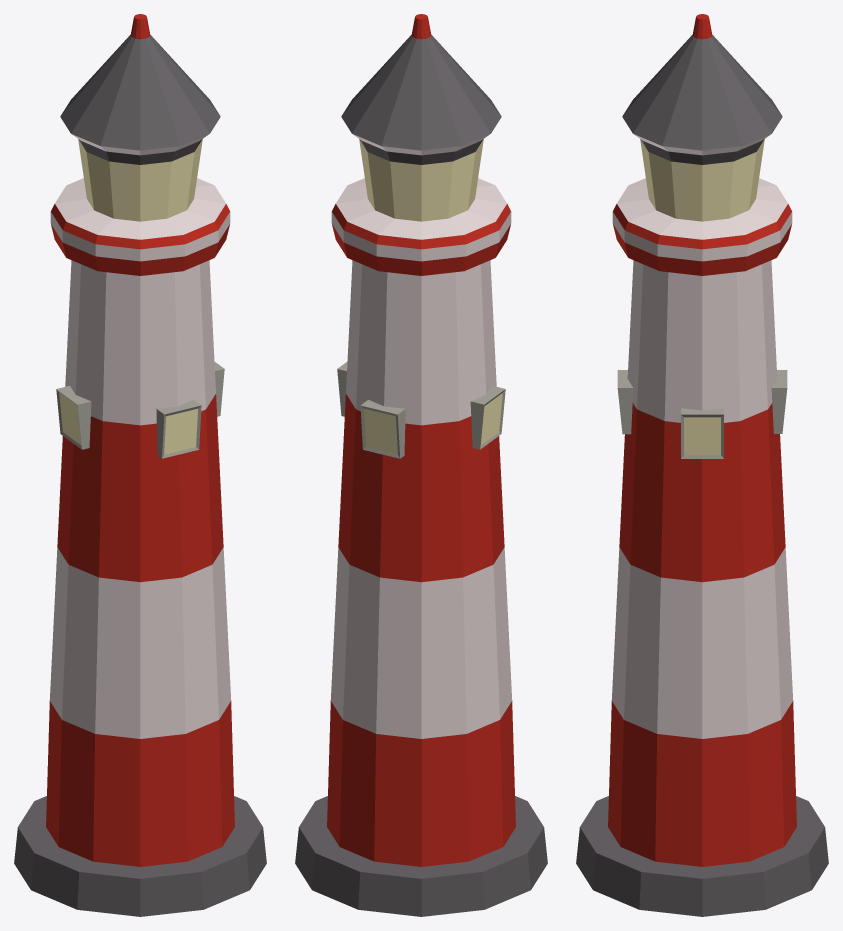
The model's file is Lighttower.fbx.
3 renders of one model, left to right at view 1: azimuth 30°, elevation 25°; view 2: azimuth 150°, elevation 25°; view 3: azimuth 270°, elevation 25°, orthographic.
Visible parts, largest first — view 1: LightTower; view 2: LightTower; view 3: LightTower.
Part boxes in pixels (bbox=[...]): LightTower: bbox=[14, 14, 266, 916]; LightTower: bbox=[295, 14, 547, 916]; LightTower: bbox=[576, 14, 828, 916].
Size of the model in its own units: 94.72 by 94.72 by 350.
